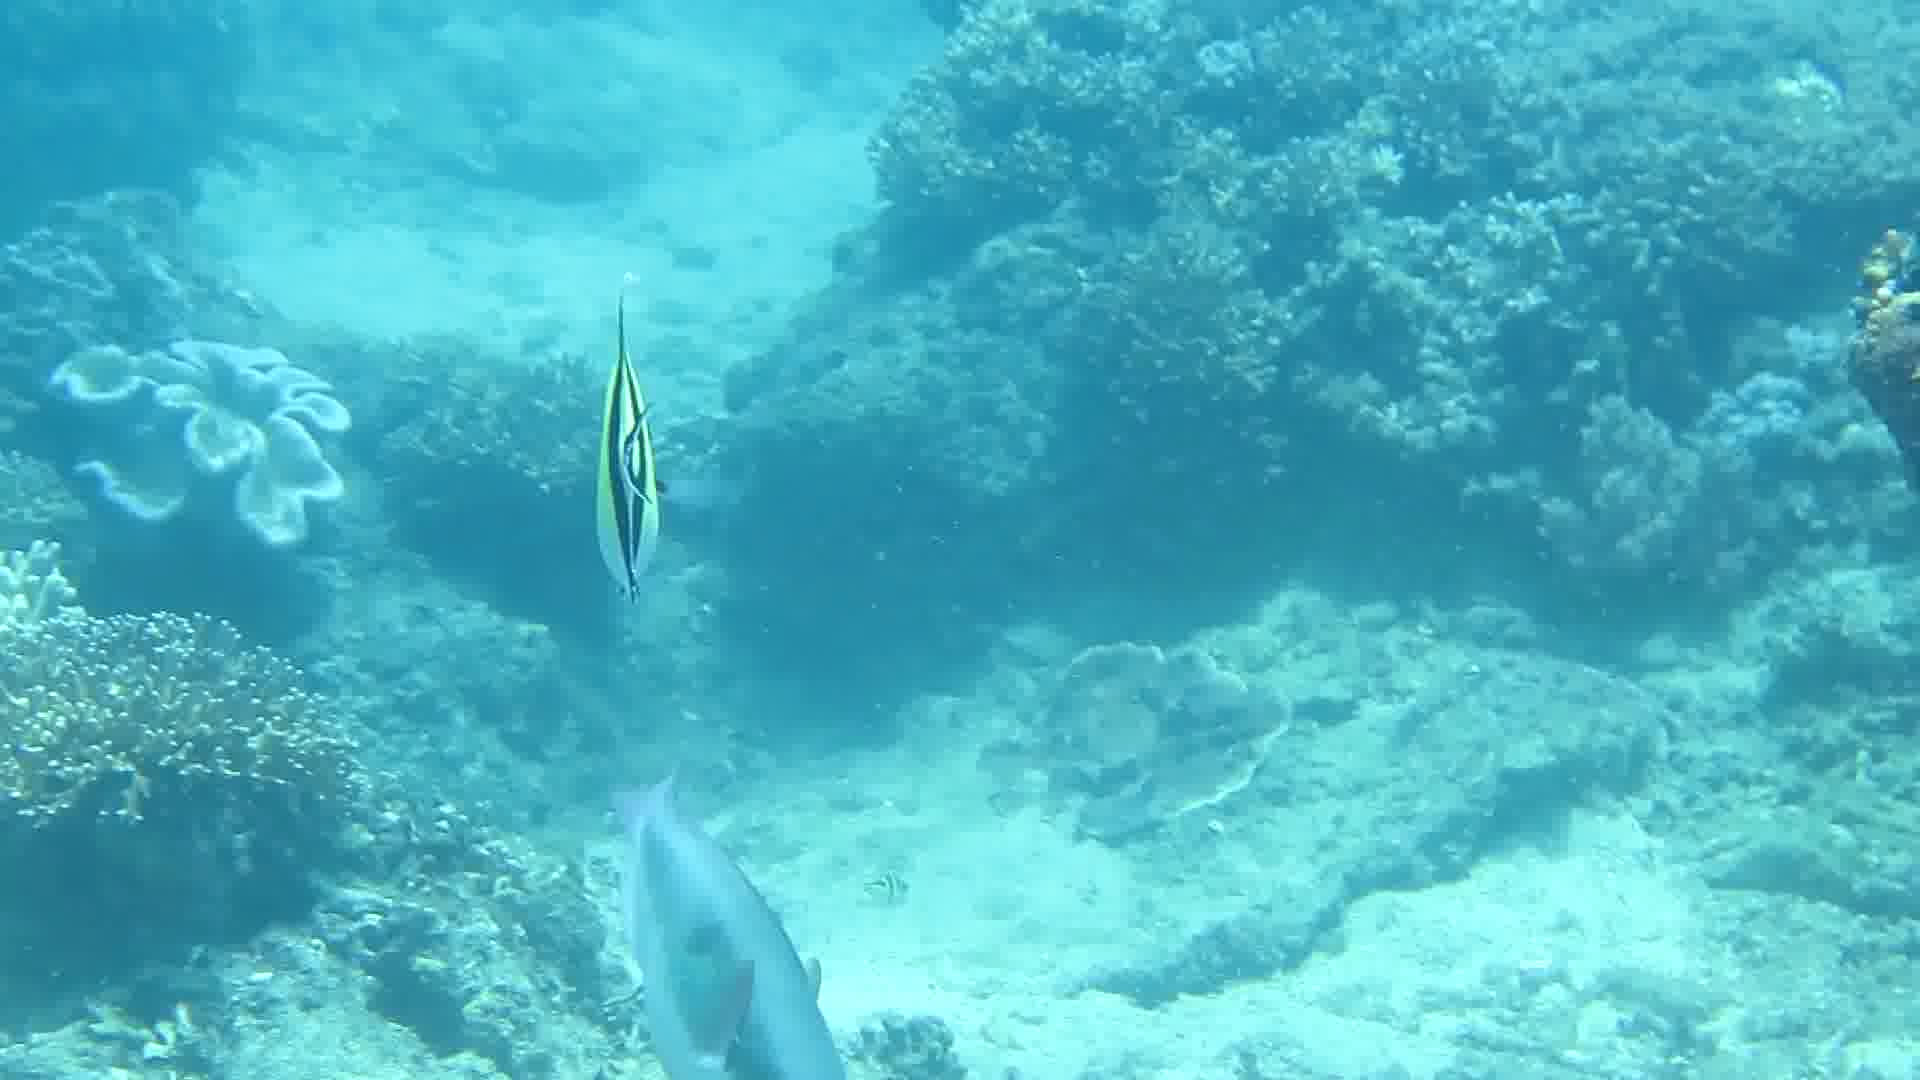Zanclus cornutus: (520, 277, 745, 636)
